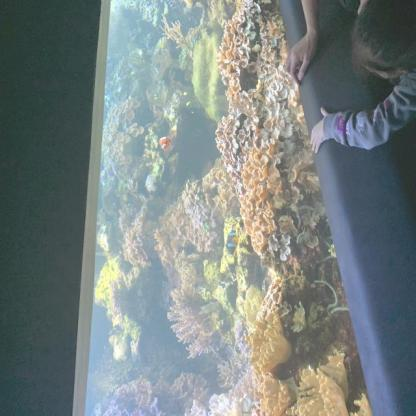fish: (226, 229, 240, 262), (159, 136, 171, 152)
